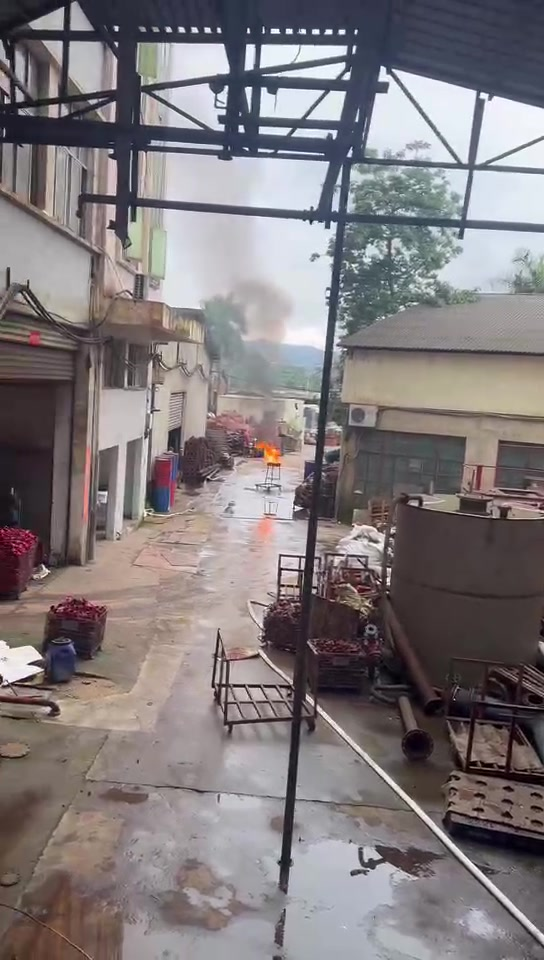fire: (257, 441, 279, 462)
